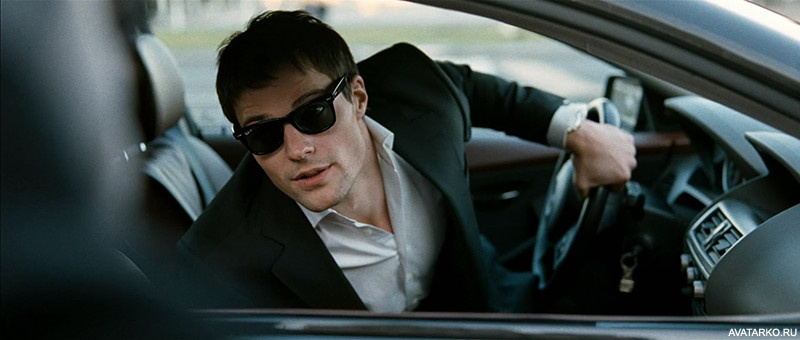glasses: (215, 82, 361, 155)
